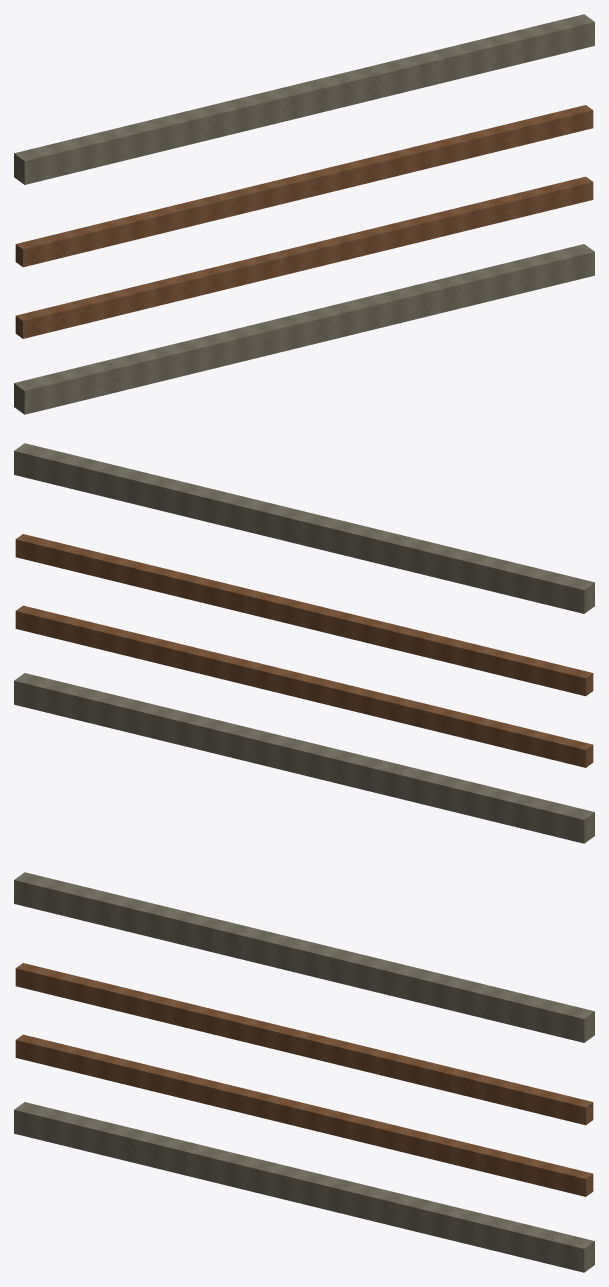
The model's file is MRP_Railing_Horizontal_2m.fbx.
The picture shows the model from 3 angles, top to bottom: view 1: azimuth 30°, elevation 25°; view 2: azimuth 150°, elevation 25°; view 3: azimuth 330°, elevation 25°; orthographic projection.
Parts seen in each view (by area): view 1: Body; view 2: Body; view 3: Body.
Boxes of the visible parts, box(x1,y1,x2,y2) form: Body: box(14, 14, 594, 414); Body: box(14, 443, 594, 843); Body: box(14, 872, 594, 1272).
Bounding box in the file's own units: 2 × 0.85 × 0.065.
